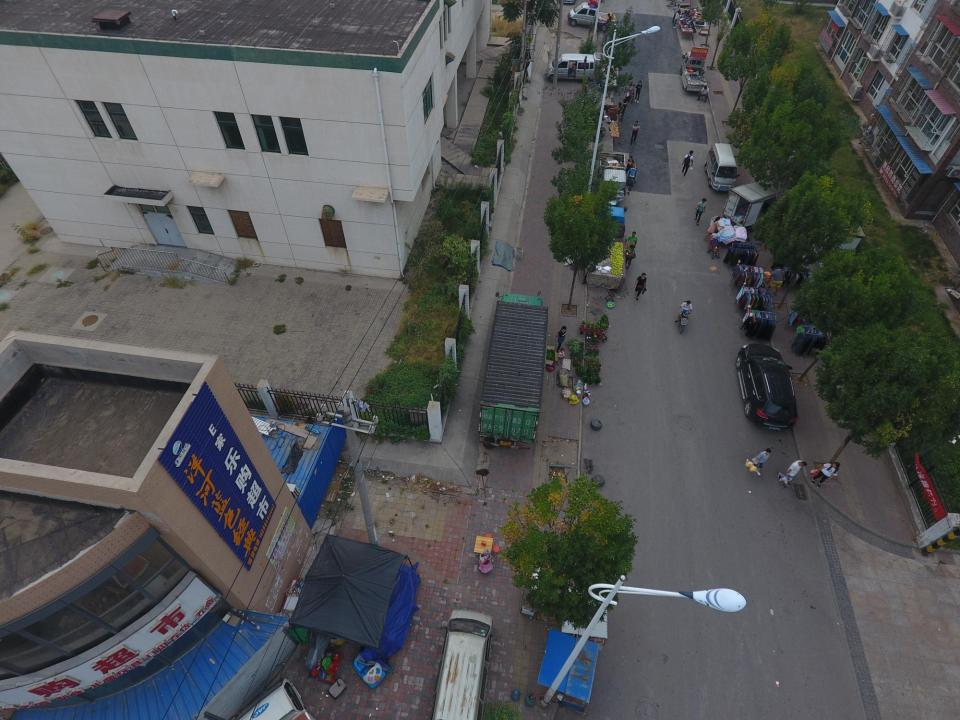car: (736, 343, 798, 433)
truck: (479, 292, 548, 447), (581, 204, 628, 288), (723, 180, 800, 230), (594, 150, 628, 210), (568, 3, 617, 32), (680, 50, 709, 92)
van: (430, 608, 493, 720), (704, 144, 740, 194), (546, 52, 599, 82)
